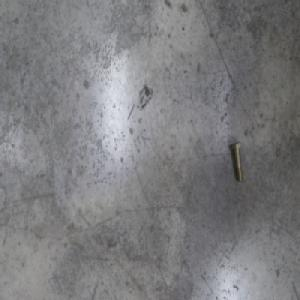Bolt: (230, 140, 243, 182)
